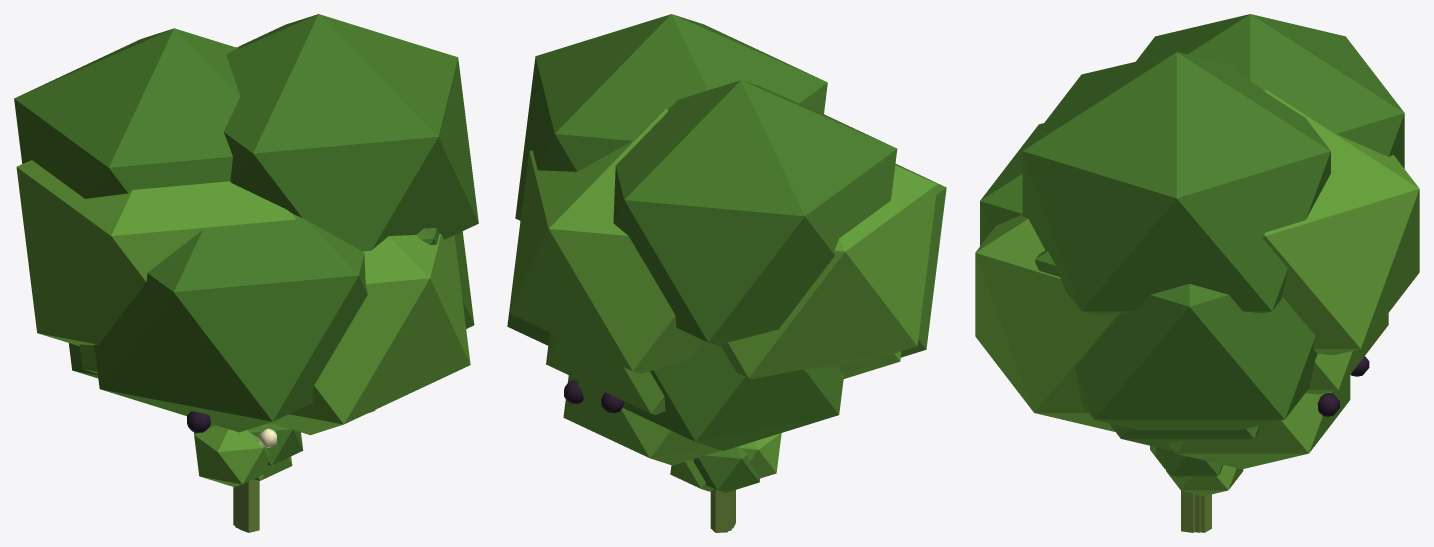
File: Crop_Fruit_Blackberry.fbx
3 views of the same model, side by side, from view 1: azimuth 30°, elevation 25°; view 2: azimuth 150°, elevation 25°; view 3: azimuth 270°, elevation 25° (orthographic). The views are drawn at different scales.
Parts seen in each view (by area): view 1: Crop_Fruit_Blackberry__S4, Crop_Fruit_Blackberry__S1, Crop_Fruit_Blackberry__S3; view 2: Crop_Fruit_Blackberry__S4, Crop_Fruit_Blackberry__S3, Crop_Fruit_Blackberry__S5, Crop_Fruit_Blackberry__S1; view 3: Crop_Fruit_Blackberry__S4, Crop_Fruit_Blackberry__S5, Crop_Fruit_Blackberry__S1, Crop_Fruit_Blackberry__S3.
Part boxes in pixels (x1=…): Crop_Fruit_Blackberry__S4: x1=14, y1=14, x2=478, y2=435; Crop_Fruit_Blackberry__S1: x1=194, y1=423, x2=303, y2=532; Crop_Fruit_Blackberry__S3: x1=68, y1=343, x2=375, y2=528; Crop_Fruit_Blackberry__S4: x1=507, y1=14, x2=946, y2=413; Crop_Fruit_Blackberry__S3: x1=546, y1=332, x2=901, y2=530; Crop_Fruit_Blackberry__S5: x1=563, y1=375, x2=728, y2=532; Crop_Fruit_Blackberry__S1: x1=670, y1=433, x2=781, y2=528; Crop_Fruit_Blackberry__S4: x1=975, y1=14, x2=1419, y2=532; Crop_Fruit_Blackberry__S5: x1=1109, y1=375, x2=1350, y2=532; Crop_Fruit_Blackberry__S1: x1=1150, y1=446, x2=1243, y2=532; Crop_Fruit_Blackberry__S3: x1=1305, y1=313, x2=1388, y2=394.
Size of the model in its own units: 0.2198 by 0.2593 by 0.2059.
